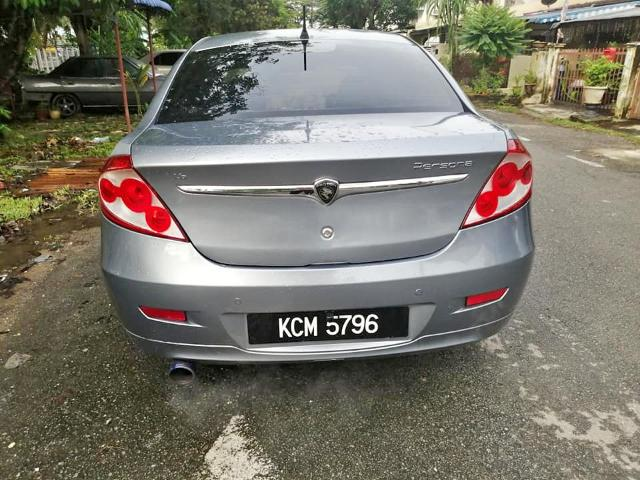License_Plate: (253, 316, 404, 343)
car: (95, 24, 536, 381)
